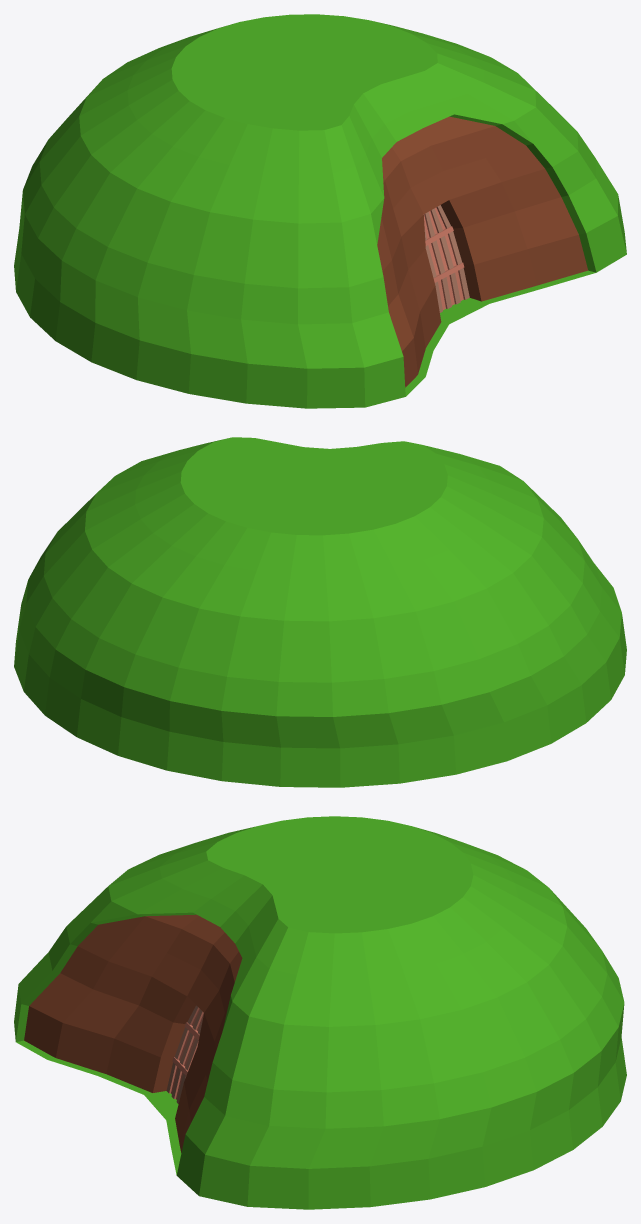
File: GrassHouse01.fbx
3 views of the same model, one above another, from view 1: azimuth 30°, elevation 25°; view 2: azimuth 150°, elevation 25°; view 3: azimuth 270°, elevation 25° (orthographic). The views are drawn at different scales.
Visible parts, largest first — view 1: Cylinder.022; view 2: Cylinder.022; view 3: Cylinder.022.
Part boxes in pixels (x1=…): Cylinder.022: x1=14, y1=14, x2=626, y2=408; Cylinder.022: x1=14, y1=437, x2=626, y2=787; Cylinder.022: x1=14, y1=816, x2=626, y2=1209.
Bounding box in the file's own units: 843 × 300 × 812.
